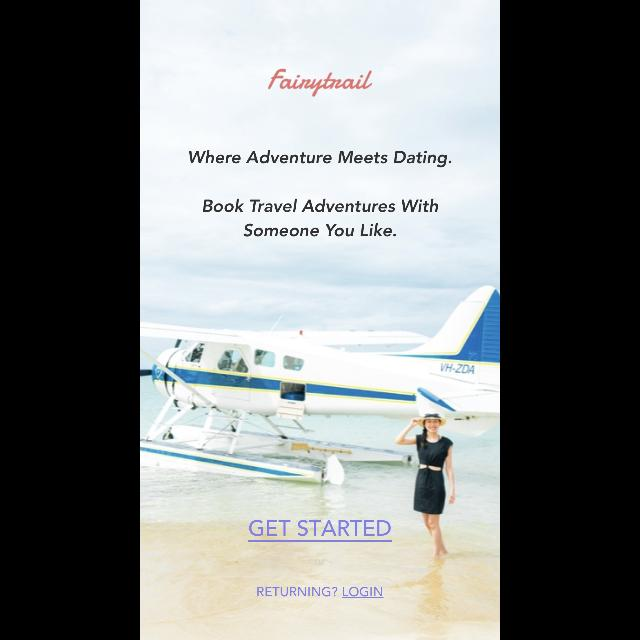backgroundimage: (140, 1, 500, 640)
text: (202, 199, 438, 237), (189, 150, 451, 168), (248, 520, 392, 542), (268, 68, 372, 98), (258, 586, 384, 598)
